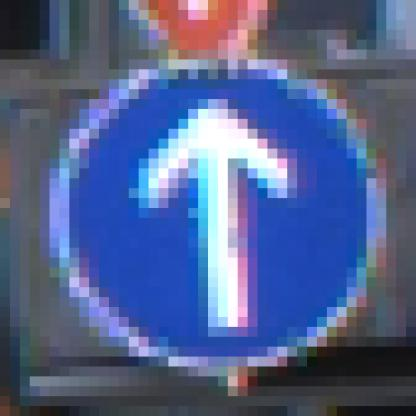AheadOnly: (61, 61, 368, 368)
